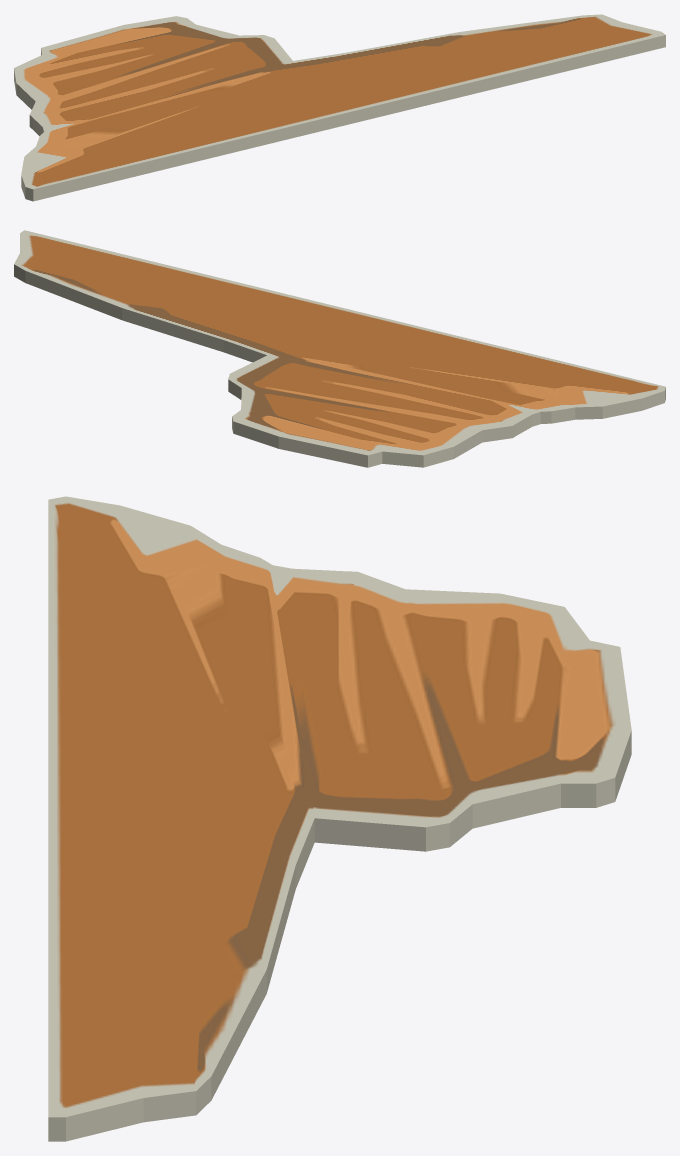
File: Hill.FBX
The picture shows the model from 3 angles, top to bottom: view 1: azimuth 30°, elevation 25°; view 2: azimuth 150°, elevation 25°; view 3: azimuth 270°, elevation 25°; orthographic projection. The views are drawn at different scales.
Parts seen in each view (by area): view 1: Hill; view 2: Hill; view 3: Hill.
Boxes of the visible parts, bbox=[...] form: Hill: bbox=[14, 14, 665, 201]; Hill: bbox=[14, 230, 665, 467]; Hill: bbox=[48, 496, 631, 1141].
Size of the model in its own units: 1.83 by 0.0334 by 0.7251.
